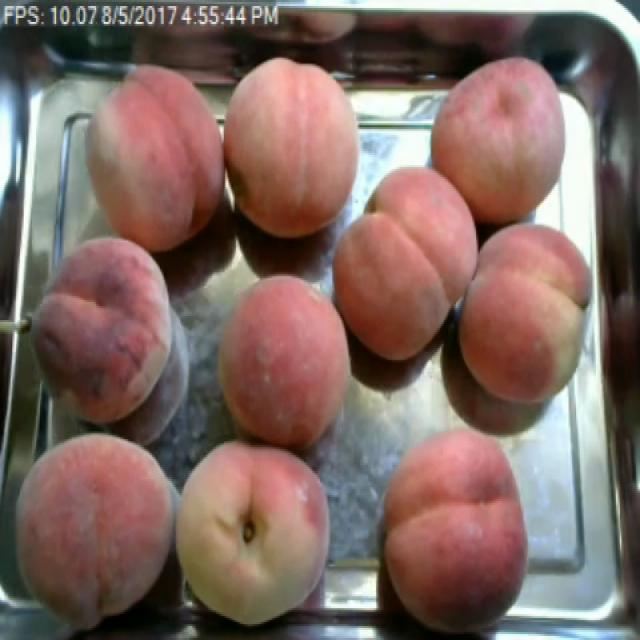Fruit: (0, 411, 176, 640), (15, 223, 192, 447), (323, 151, 492, 376), (372, 417, 541, 638), (439, 209, 612, 417), (173, 425, 344, 634), (197, 264, 368, 465), (73, 56, 227, 262), (421, 42, 583, 235), (223, 46, 373, 248)
